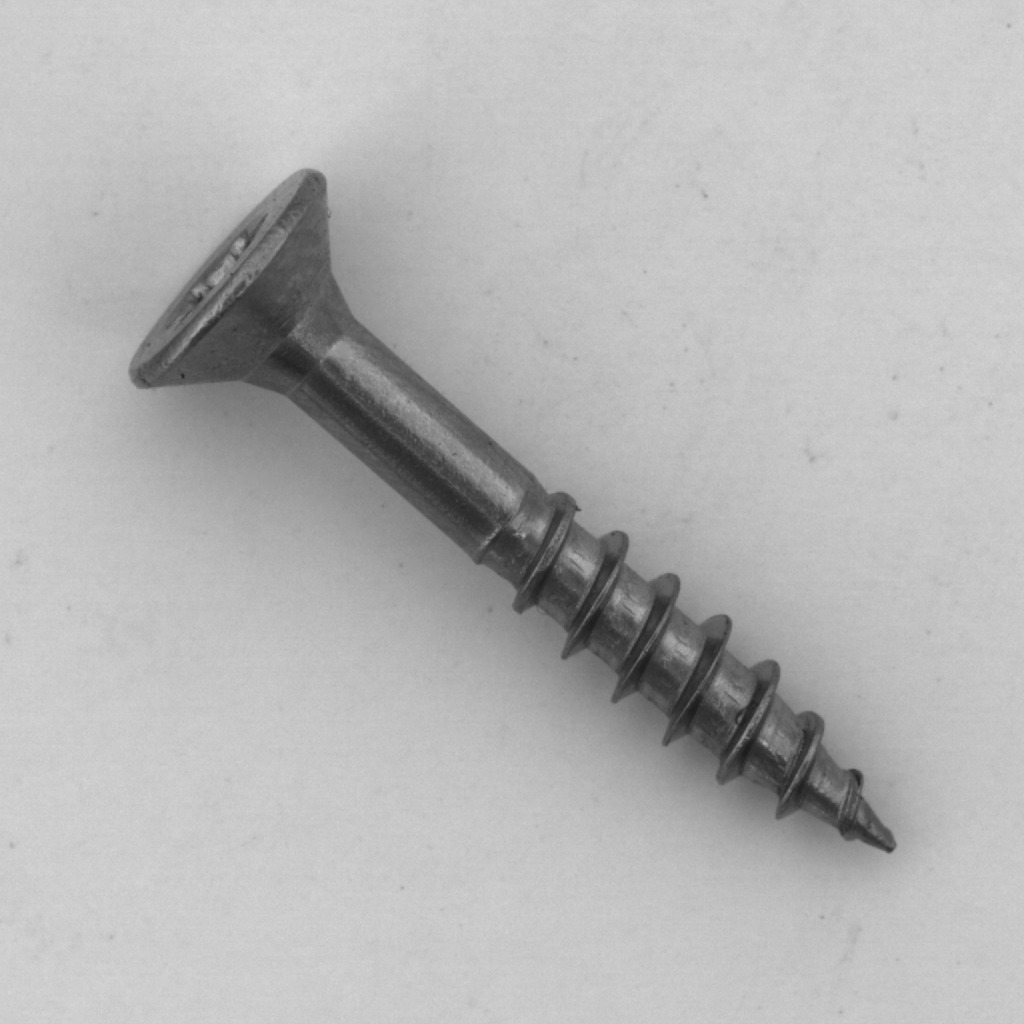good: (115, 147, 911, 869)
